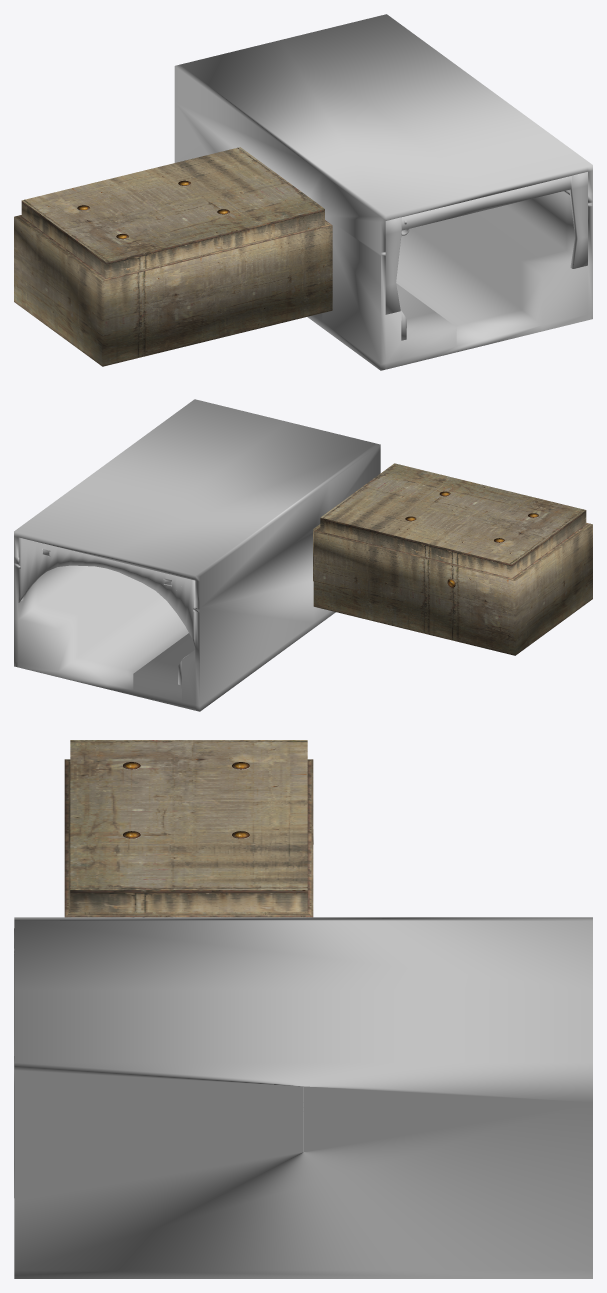
The model's file is Sectione_Straight_WithRoomEMPTY.fbx.
The picture shows the model from 3 angles, top to bottom: view 1: azimuth 30°, elevation 25°; view 2: azimuth 150°, elevation 25°; view 3: azimuth 270°, elevation 25°; orthographic projection. The views are drawn at different scales.
Parts seen in each view (by area): view 1: SectionE_straight, roomA; view 2: SectionE_straight, roomA, Arch; view 3: SectionE_straight, roomA.
Part boxes in pixels (<box>): SectionE_straight: <box>174,14,592,370</box>; roomA: <box>14,147,332,366</box>; SectionE_straight: <box>14,399,380,711</box>; roomA: <box>313,463,592,655</box>; Arch: <box>18,537,195,646</box>; SectionE_straight: <box>14,917,592,1278</box>; roomA: <box>64,740,313,917</box>.
Bounding box in the file's own units: 658 × 208 × 497.
